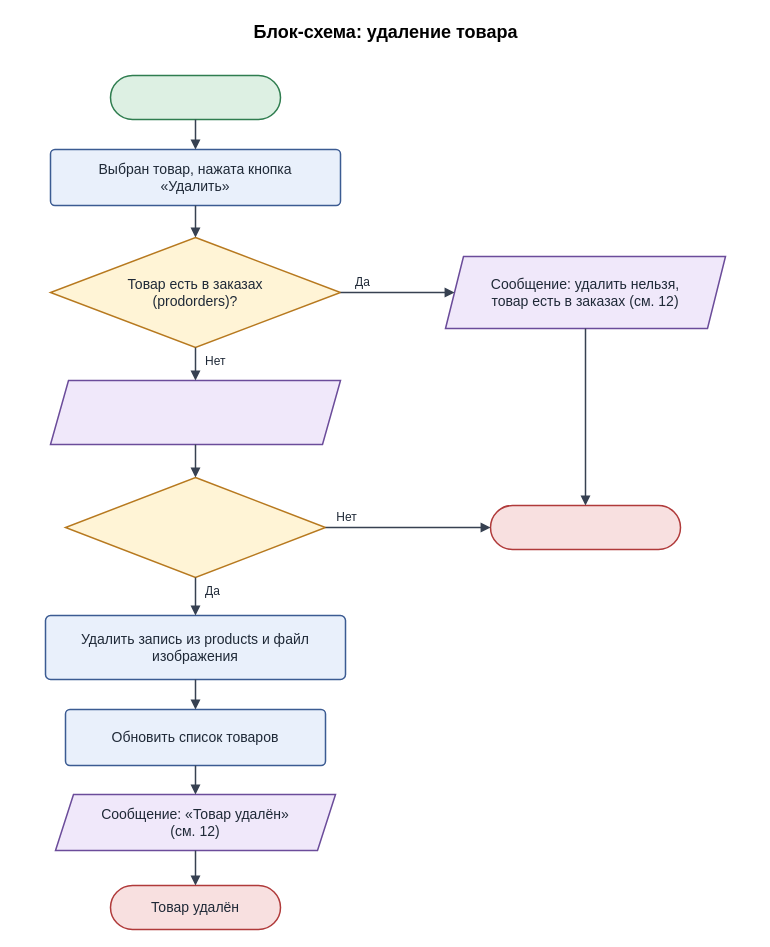
Image size: 770x947. Some labels were removed from this diagram. Here are the shapes that lost their labels. From the top down, the box of each, then its label:
(109, 74, 281, 120): Начало
(49, 379, 341, 445): Запросить подтверждение: «Удалить товар?»
(64, 476, 326, 578): Пользователь подтвердил?
(489, 504, 681, 550): Удаление отменено
